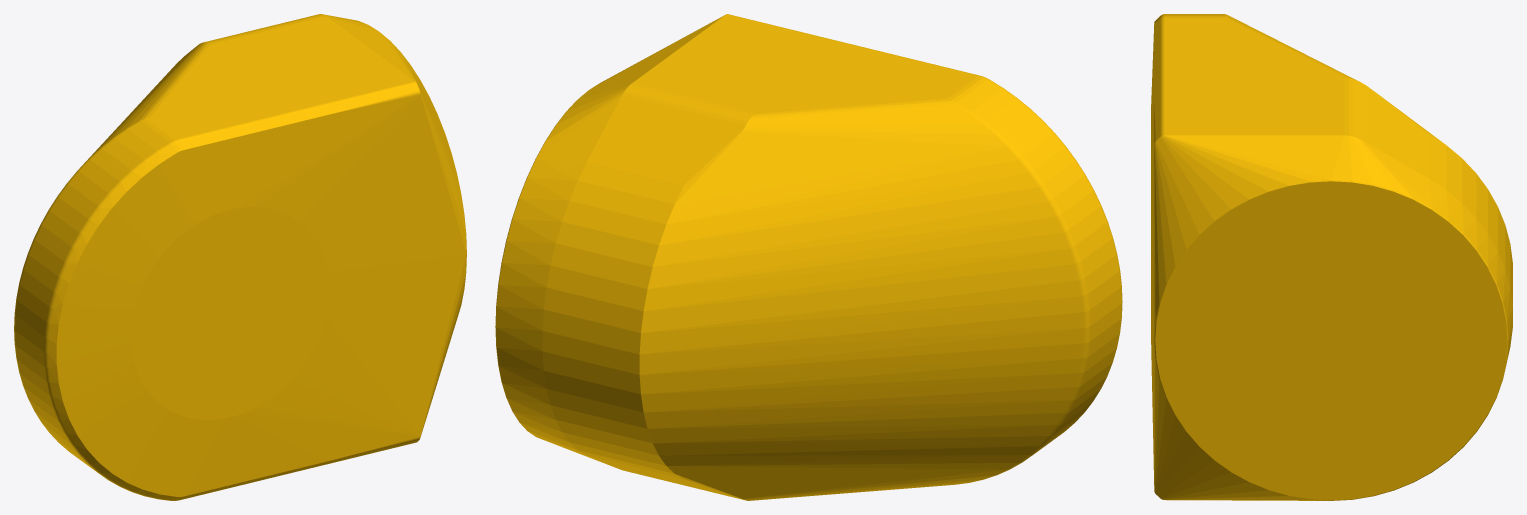
The picture shows the model from 3 angles, left to right: view 1: azimuth 30°, elevation 25°; view 2: azimuth 150°, elevation 25°; view 3: azimuth 270°, elevation 25°; orthographic projection. The views are drawn at different scales.
Visible parts, largest first — view 1: Link 5.001; view 2: Link 5.001; view 3: Link 5.001.
Boxes of the visible parts, x1=… form: Link 5.001: x1=14, y1=14, x2=466, y2=500; Link 5.001: x1=495, y1=14, x2=1122, y2=500; Link 5.001: x1=1151, y1=14, x2=1512, y2=500.
Size of the model in its own units: 0.1515 by 0.1124 by 0.125.
